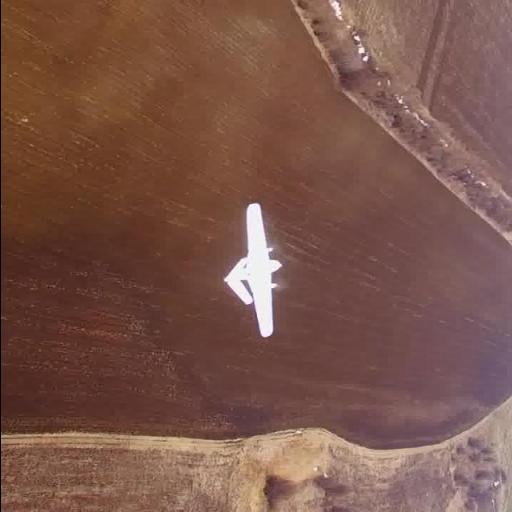uav: (216, 198, 291, 340)
